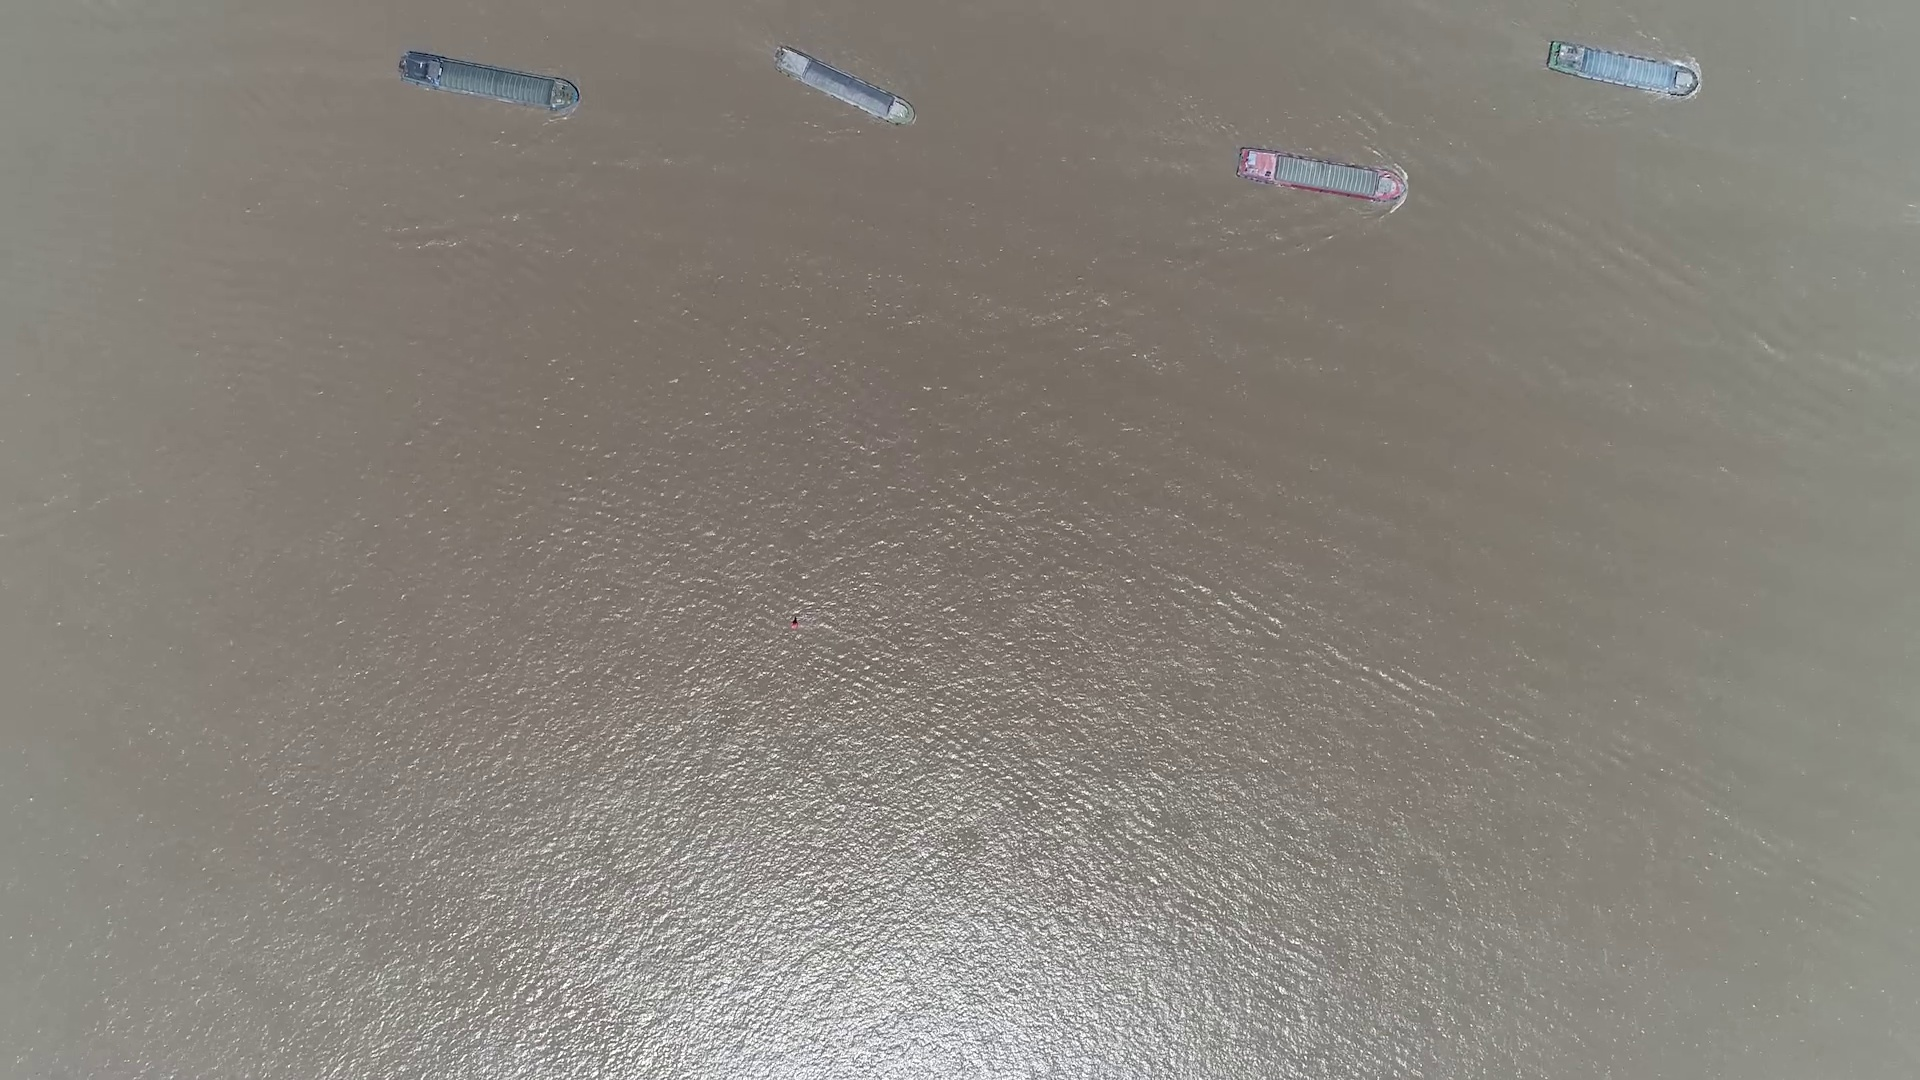ship: (398, 50, 582, 115), (771, 47, 911, 127), (1236, 152, 1406, 204), (1544, 44, 1695, 96)
